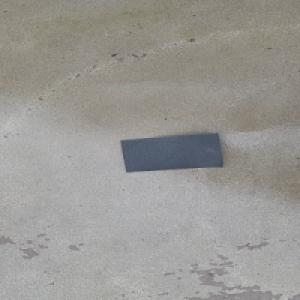PaintChip: (120, 132, 223, 172)
